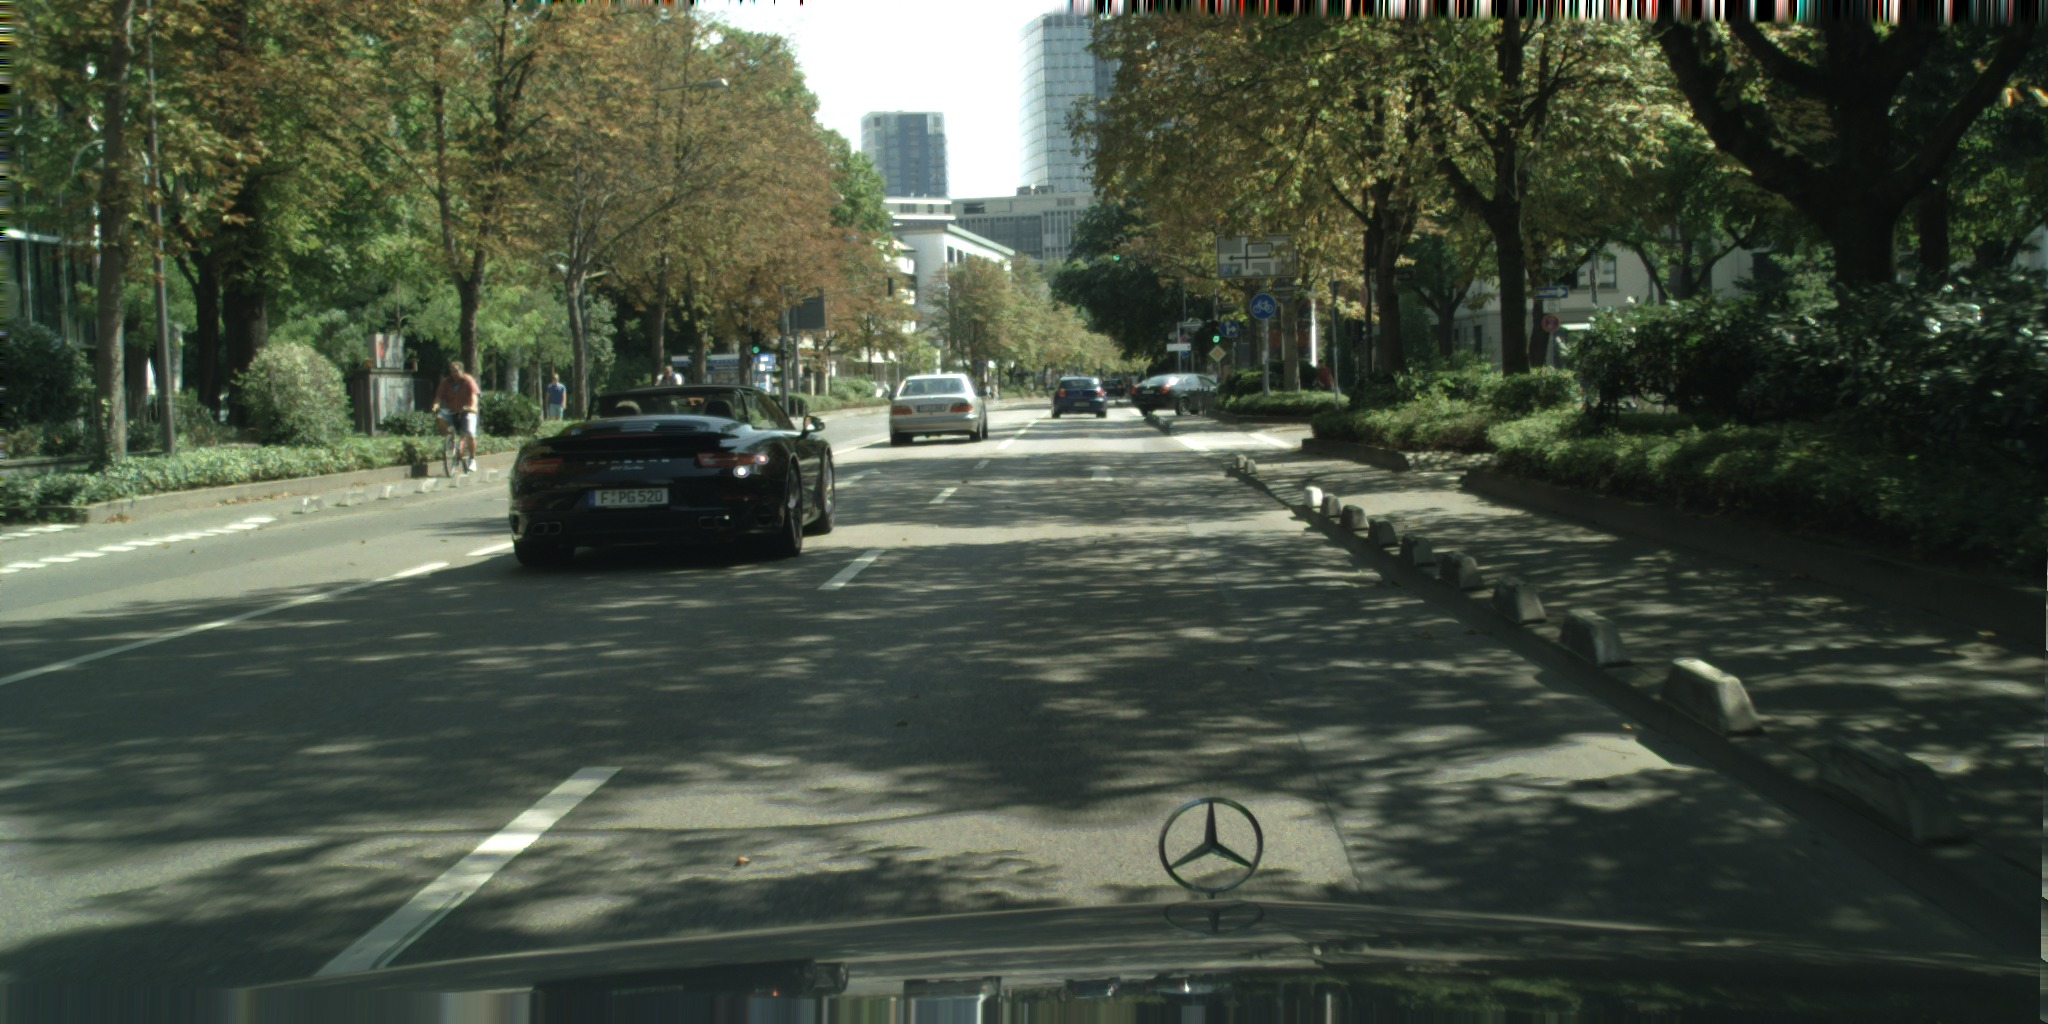bicycle: (432, 407, 471, 477)
car: (508, 383, 837, 569), (888, 370, 989, 446), (1130, 371, 1226, 417), (1050, 375, 1108, 419), (1092, 377, 1125, 395)
person: (1307, 357, 1337, 397), (545, 371, 568, 420), (1129, 370, 1139, 394), (1137, 371, 1147, 389)
rider: (431, 359, 480, 472), (653, 364, 684, 403), (880, 380, 891, 398)
